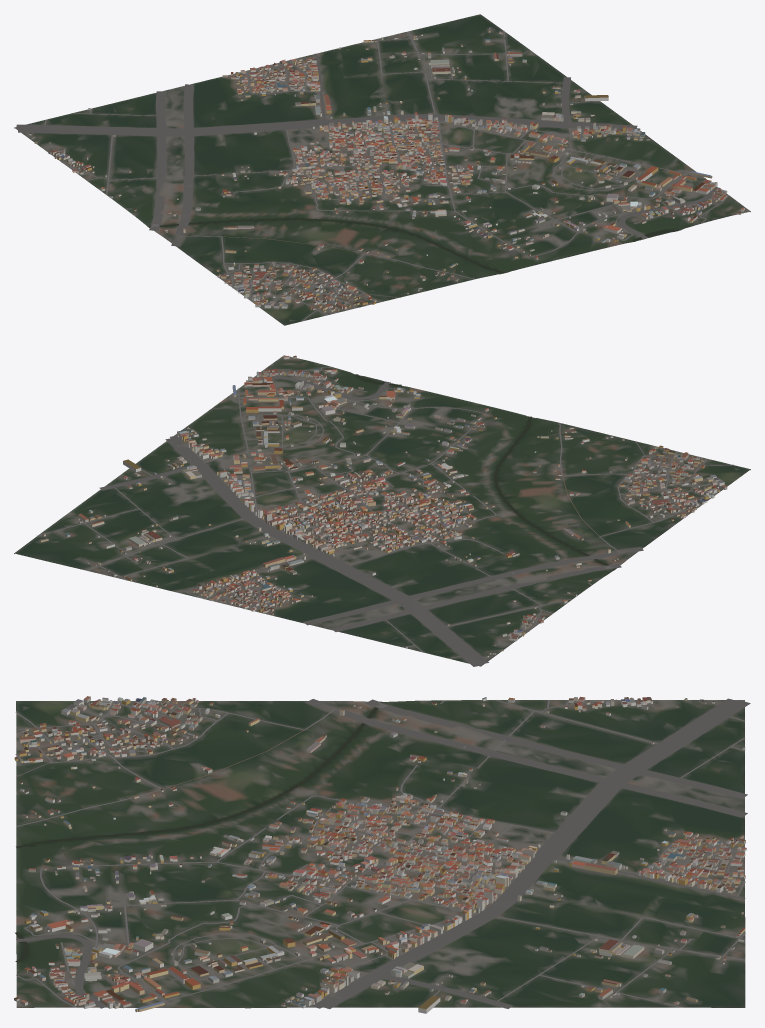
3 views of the same model, one above another, from view 1: azimuth 30°, elevation 25°; view 2: azimuth 150°, elevation 25°; view 3: azimuth 270°, elevation 25° (orthographic). The views are drawn at different scales.
Parts seen in each view (by area): view 1: ground, buildings, roads, water; view 2: ground, buildings, roads, water; view 3: ground, buildings, roads, water.
Part boxes in pixels (box(x1,y1,x2,y2)): ground: box(14, 14, 750, 325); buildings: box(29, 27, 744, 312); roads: box(16, 30, 729, 321); water: box(148, 218, 678, 273); ground: box(14, 355, 750, 666); buildings: box(40, 355, 727, 657); roads: box(37, 367, 733, 666); water: box(355, 374, 654, 569); ground: box(16, 700, 745, 1008); buildings: box(14, 696, 746, 1013); roads: box(15, 698, 750, 1009); water: box(15, 701, 383, 962).
Bounding box in the file's own units: 1435 × 32.46 × 1418.
